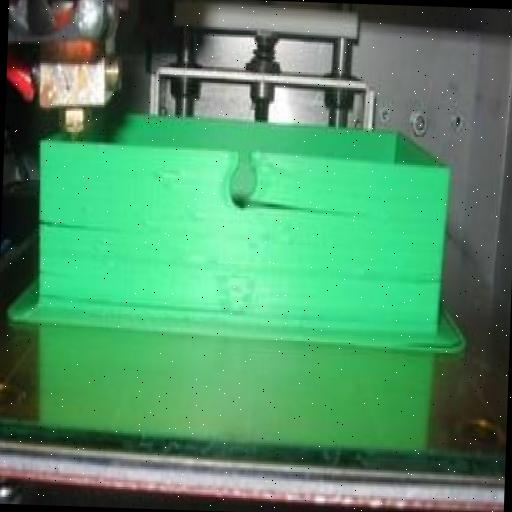cracks: (213, 178, 393, 243), (25, 204, 141, 245), (375, 259, 446, 306)
